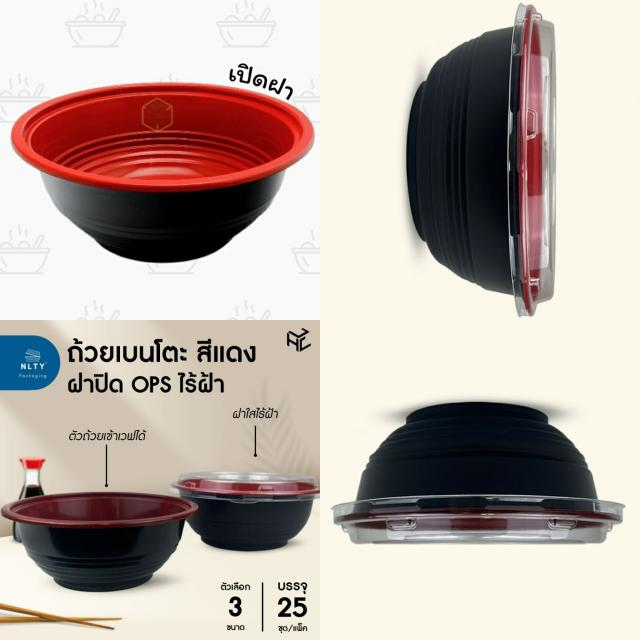Single-Use-Plastic: (11, 82, 314, 262), (408, 5, 556, 315), (332, 401, 624, 544), (2, 492, 198, 591), (171, 471, 319, 551)
